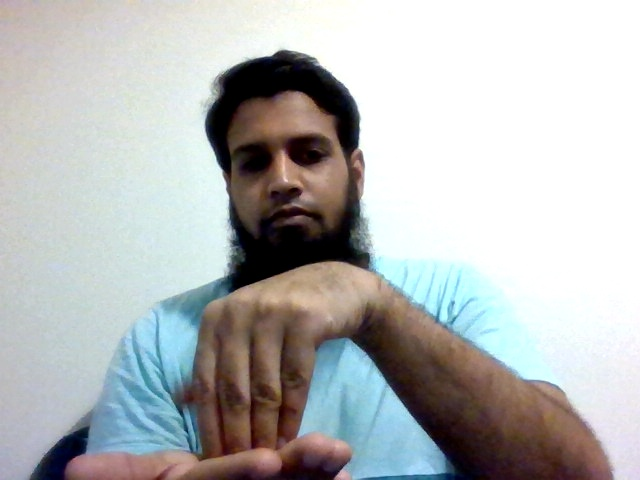again: (63, 259, 370, 479)
